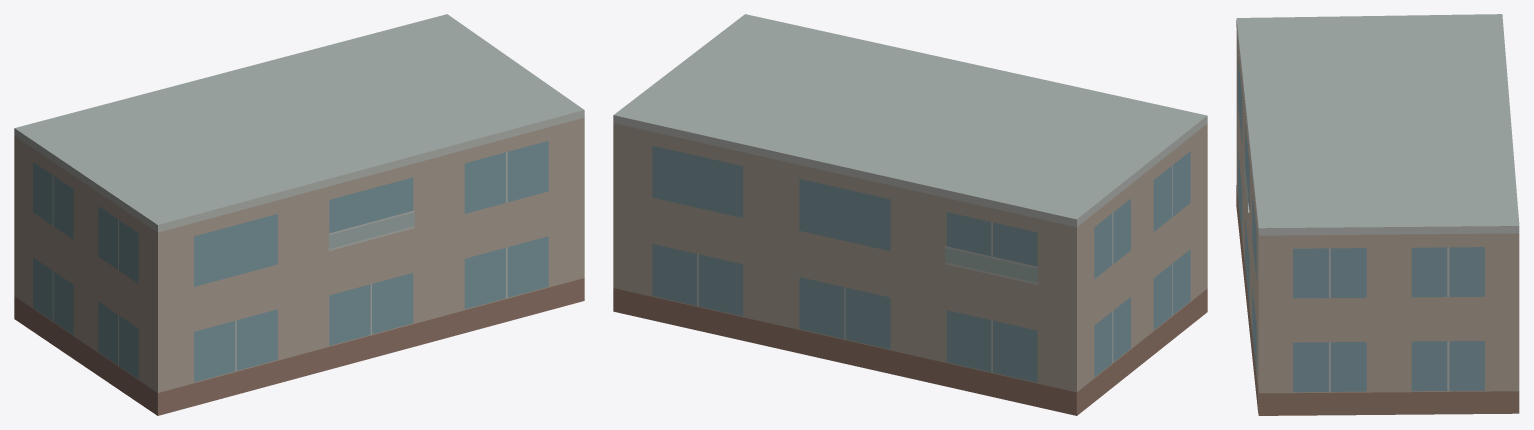
The model's file is survey-upis-32804171.glb.
The picture shows the model from 3 angles, left to right: view 1: azimuth 30°, elevation 25°; view 2: azimuth 150°, elevation 25°; view 3: azimuth 270°, elevation 25°; orthographic projection. The views are drawn at different scales.
Parts seen in each view (by area): view 1: survey-upis-32804171.tmp; view 2: survey-upis-32804171.tmp; view 3: survey-upis-32804171.tmp.
Boxes of the visible parts, x1=… form: survey-upis-32804171.tmp: x1=14, y1=14, x2=584, y2=415; survey-upis-32804171.tmp: x1=613, y1=14, x2=1207, y2=415; survey-upis-32804171.tmp: x1=1236, y1=14, x2=1519, y2=415.
Size of the model in its own units: 14.94 by 6.1 by 8.35.
